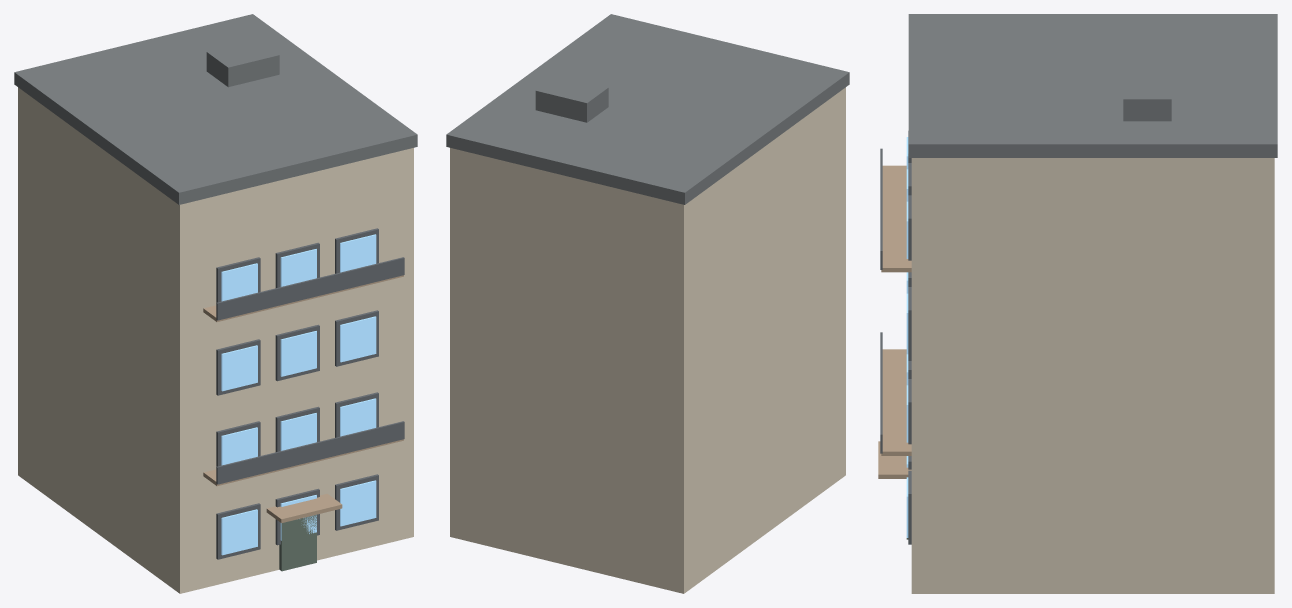
The model's file is building_residential_a.glb.
The picture shows the model from 3 angles, left to right: view 1: azimuth 30°, elevation 25°; view 2: azimuth 150°, elevation 25°; view 3: azimuth 270°, elevation 25°; orthographic projection. The views are drawn at different scales.
Parts seen in each view (by area): view 1: building_residential_a; view 2: building_residential_a; view 3: building_residential_a.
Part boxes in pixels (box(x1,y1,x2,y2)): building_residential_a: box(14, 14, 417, 593); building_residential_a: box(446, 14, 849, 593); building_residential_a: box(878, 14, 1277, 593).
Bounding box in the file's own units: 10.2 × 17.25 × 13.2.
